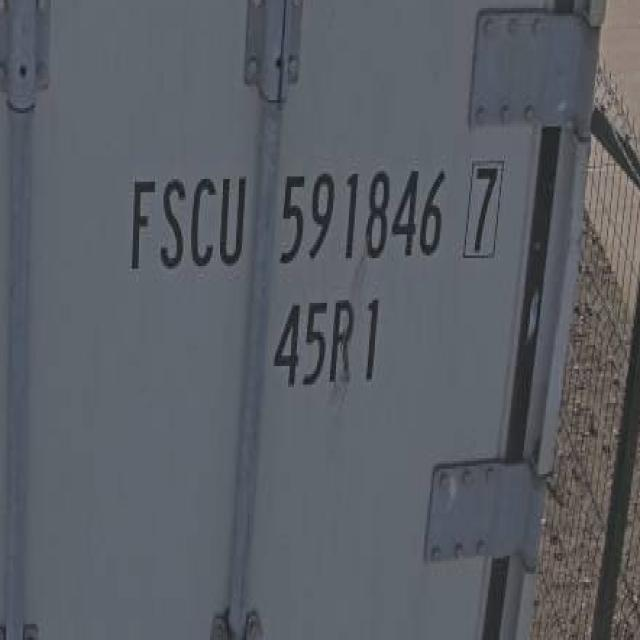dv: (457, 146, 506, 269)
owner: (124, 161, 252, 285)
serial: (275, 158, 449, 271)
size: (268, 284, 387, 396)
